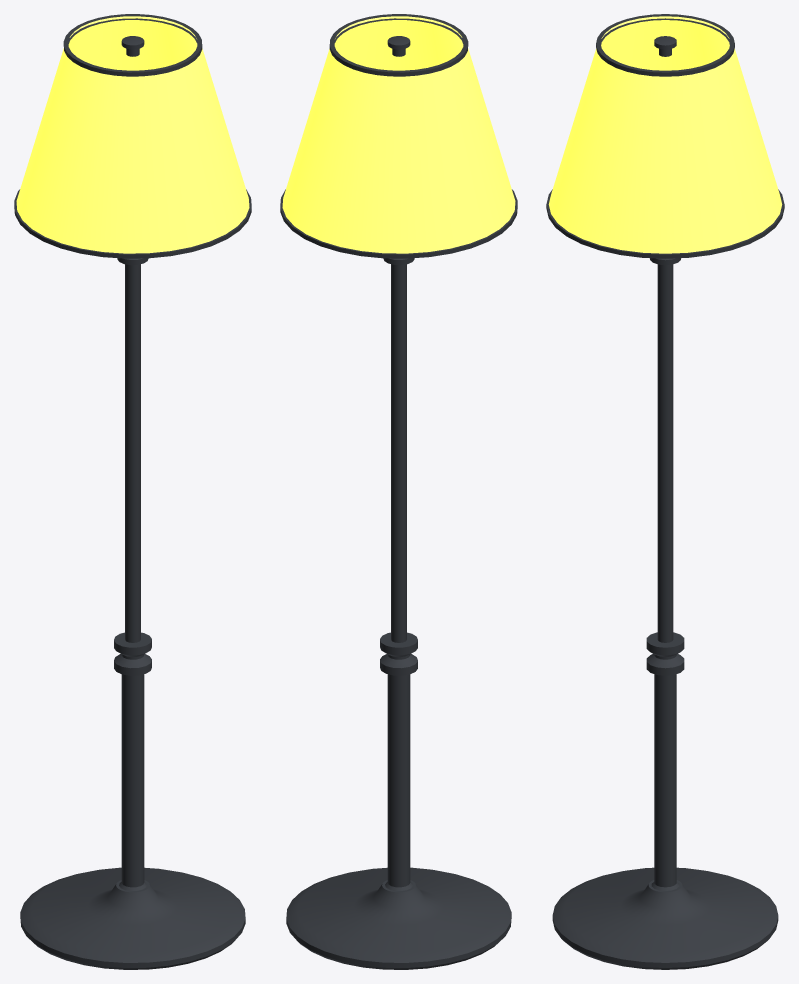
The model's file is lamp_noir_v2.glb.
The picture shows the model from 3 angles, left to right: view 1: azimuth 30°, elevation 25°; view 2: azimuth 150°, elevation 25°; view 3: azimuth 270°, elevation 25°; orthographic projection.
Visible parts, largest first — view 1: lamp_noir; view 2: lamp_noir; view 3: lamp_noir.
Boxes of the visible parts, <box> form: lamp_noir: <box>14,14,251,969</box>; lamp_noir: <box>280,14,517,969</box>; lamp_noir: <box>546,14,784,969</box>.
Size of the model in its own units: 0.422 by 1.73 by 0.422.
